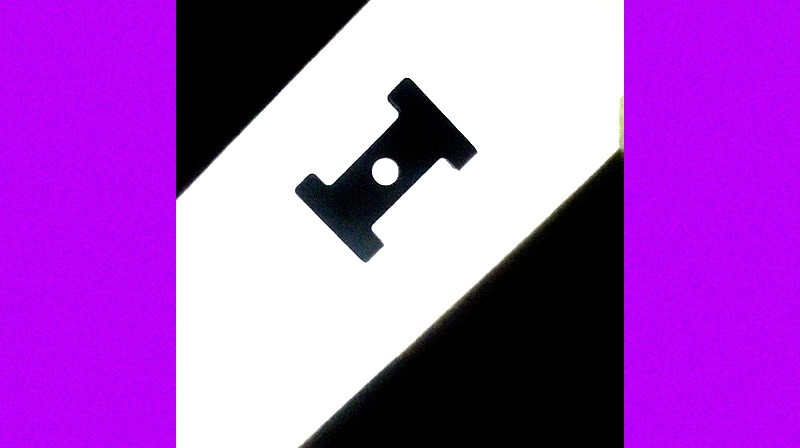O002: (291, 72, 480, 263)
